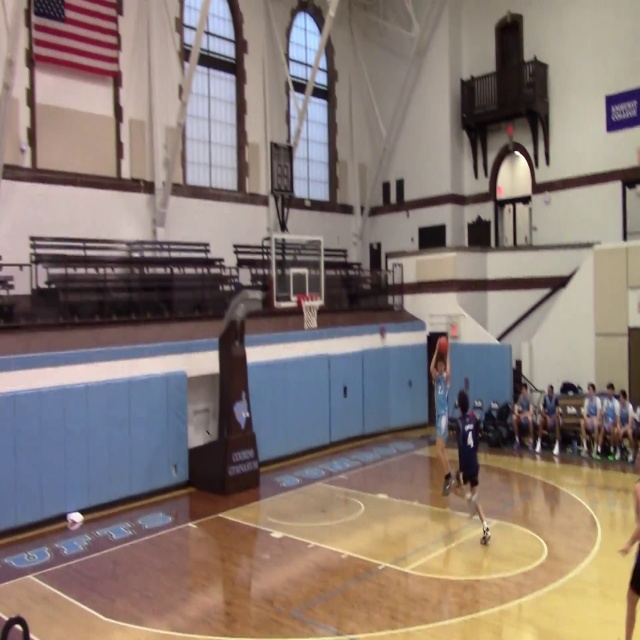Basketball: (66, 512, 84, 530), (437, 337, 448, 355), (66, 512, 83, 523)
